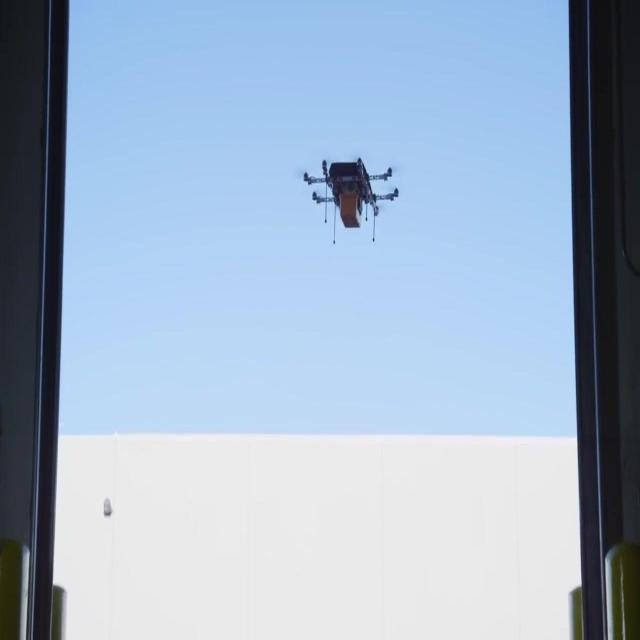drone: (302, 154, 402, 247)
